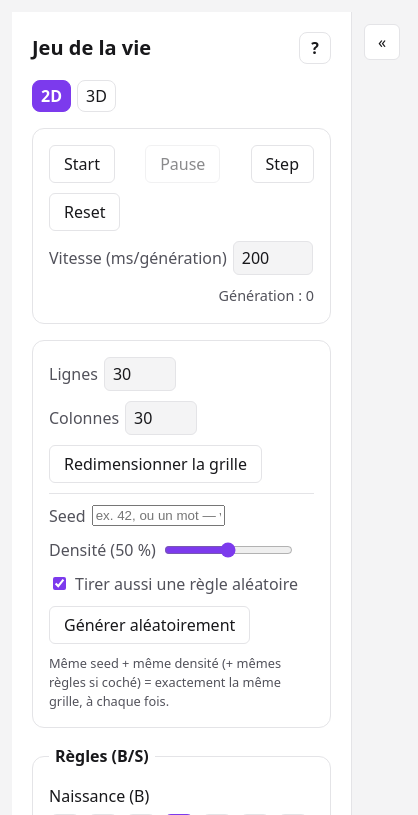
App › toggles the sidebar visibility when clicking the toggle button
This screenshot has width=418, height=815.
What coordinates should you click on to do the following:
click the button named "masquer les paramètres"
I would click on:
 (382, 42)
Its box is [364,24,400,60].
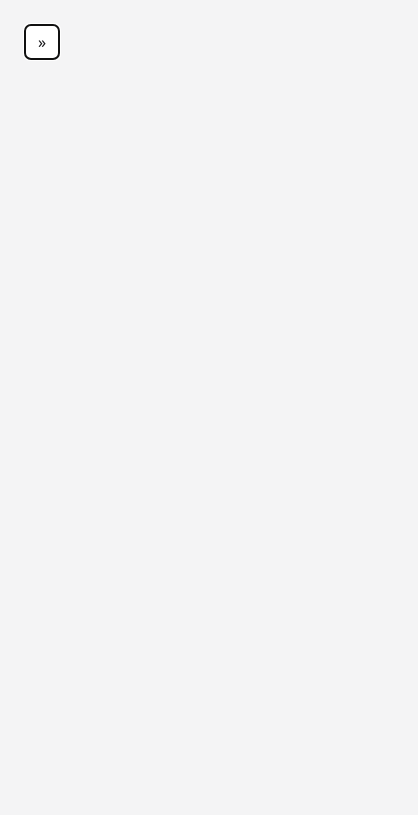
Now the button named "afficher les paramètres" is collapsed
What coordinates should you click on to do the following:
click the button named "afficher les paramètres"
I would click on:
 (42, 42)
Its box is [24,24,60,60].
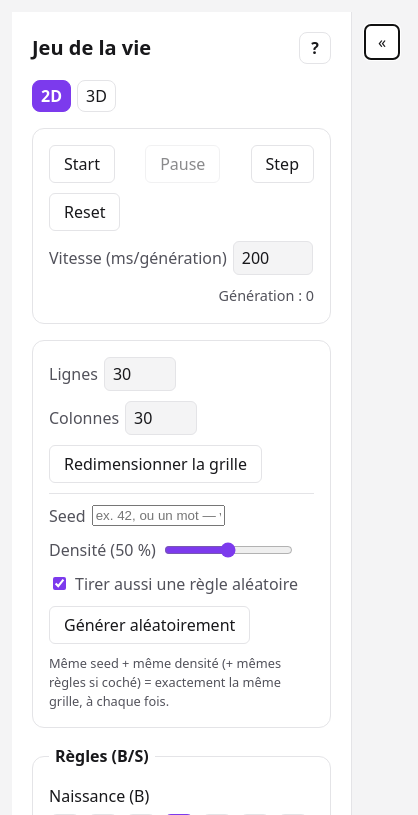
Now the button named "masquer les paramètres" is expanded, box [364,24,400,60]
